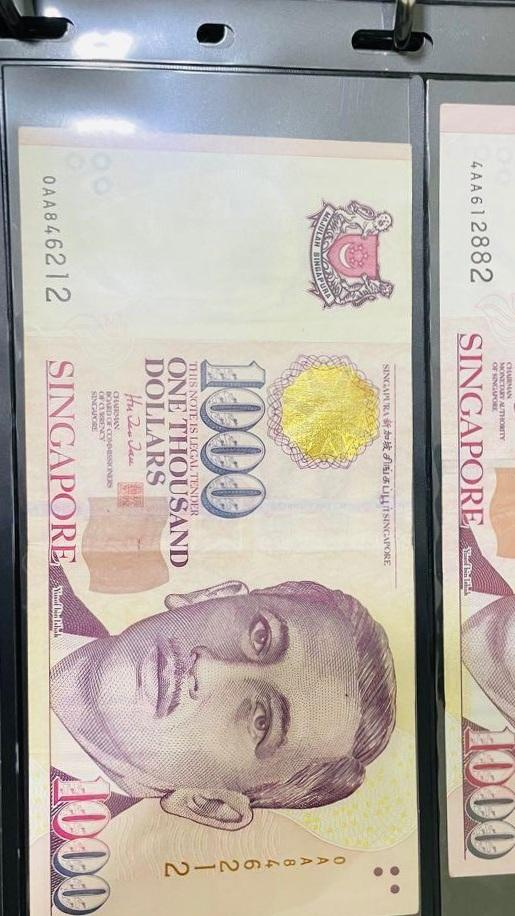1000SingaporeDollar: (33, 147, 409, 916)
